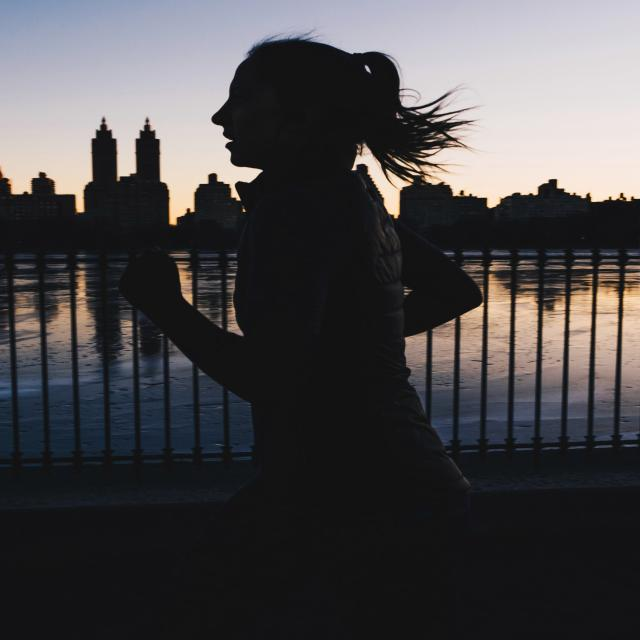adult: (121, 31, 482, 507)
